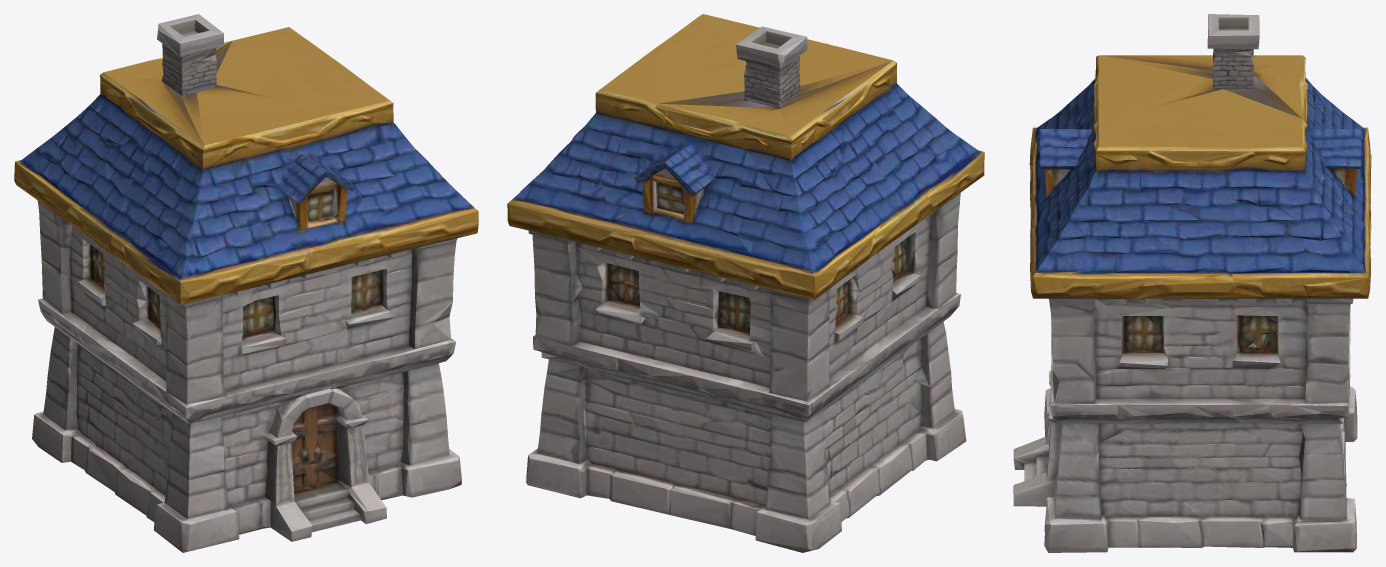
Rendered from oc_house_a.glb.
3 renders of one model, left to right at view 1: azimuth 30°, elevation 25°; view 2: azimuth 150°, elevation 25°; view 3: azimuth 270°, elevation 25°, orthographic. The views are drawn at different scales.
Parts seen in each view (by area): view 1: W_house_a; view 2: W_house_a; view 3: W_house_a.
Part boxes in pixels (x1,y1,x2,y2): W_house_a: (14,14,478,552); W_house_a: (507,14,984,552); W_house_a: (1013,14,1371,552).
Bounding box in the file's own units: 9.9 × 13.5 × 9.96.
Materials: 1 (1 with a texture image).
